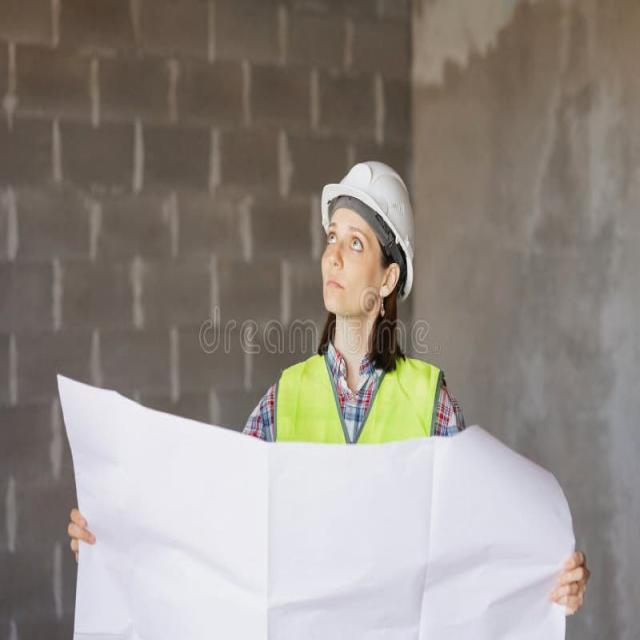helmet: (317, 152, 423, 219)
no-goggles: (314, 210, 378, 258)
vest: (276, 342, 434, 506)
